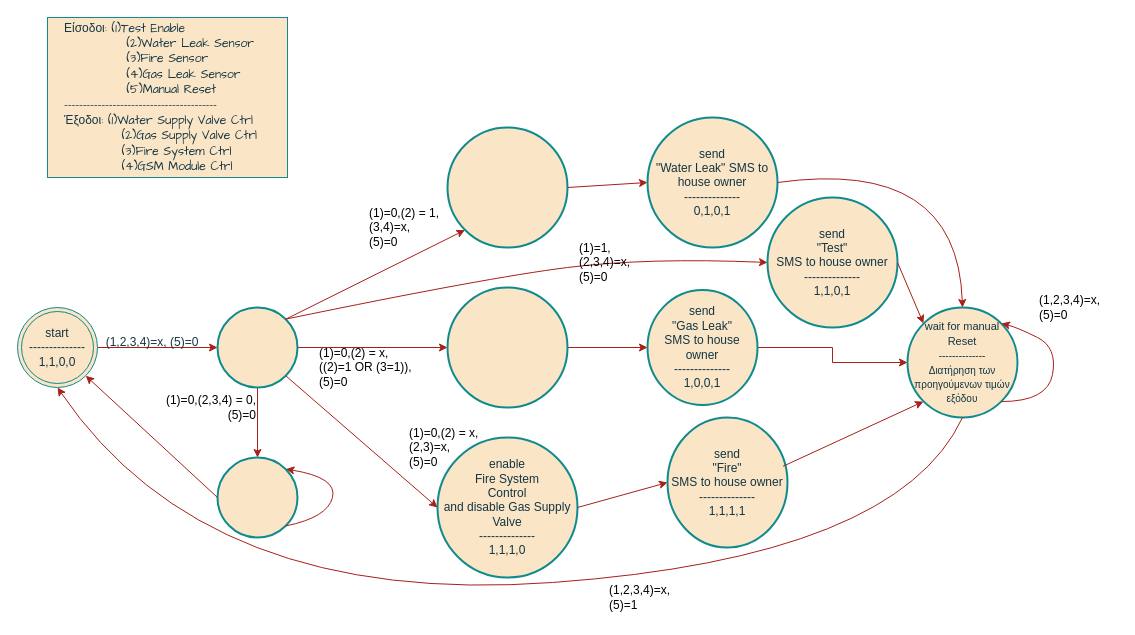
This 1135x635 diagram has some shape labels left out. The shapes that lost their labels are listed below. From the top down, each one's box as (x1, y1, x2, y2) in pixels, then its label:
(446, 126, 568, 248): disable Water Supply Valve -------------- 0,1,0,0
(216, 306, 298, 388): read sensors ------------- 1,1,0,0
(446, 286, 568, 408): disable Gas Supply Valve -------------- 1,0,0,0
(216, 456, 298, 538): wait for 5 seconds -------------- 1,1,0,0
